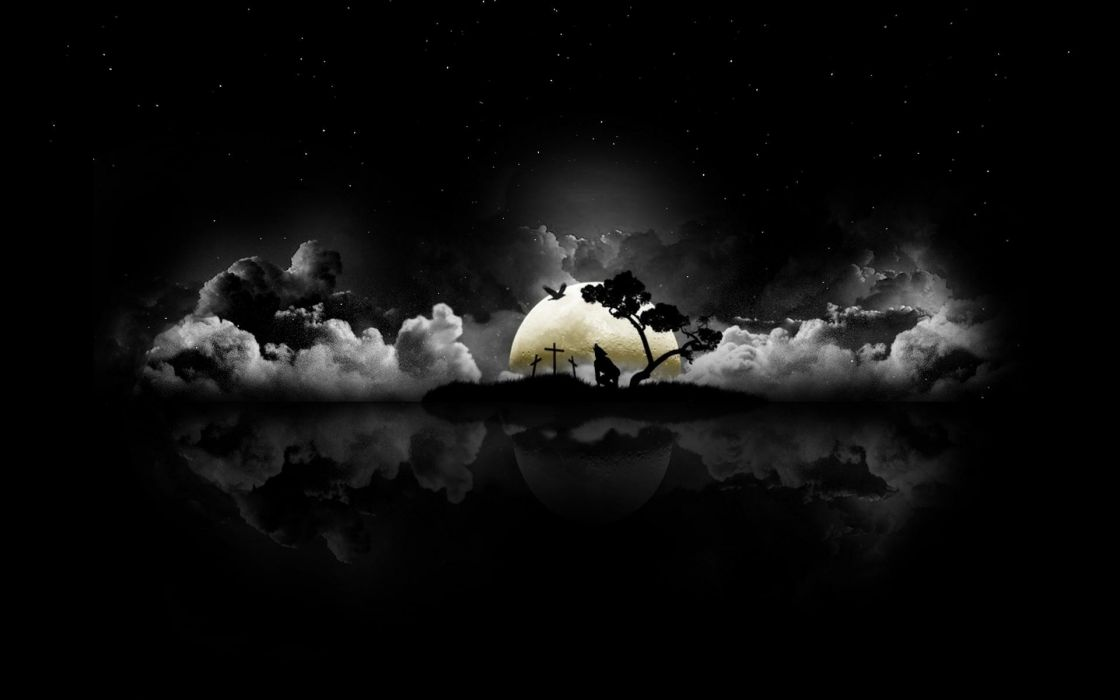Lobo: (579, 337, 626, 385)
